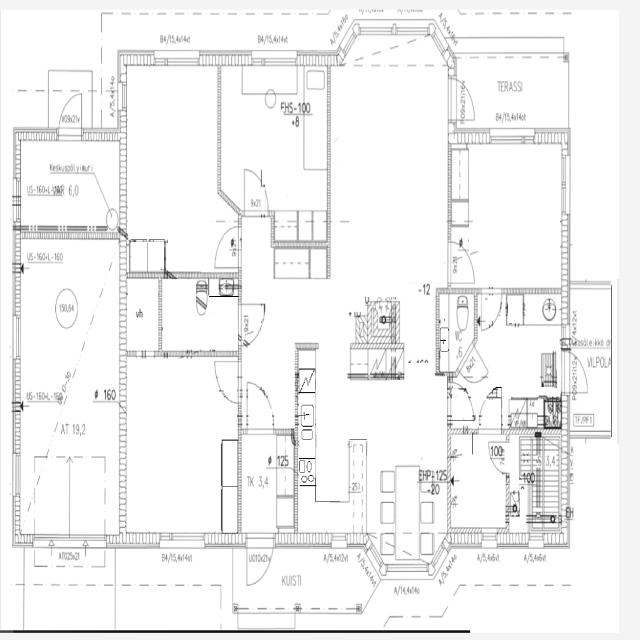door: (567, 288, 611, 429), (244, 377, 276, 438), (243, 528, 274, 590), (239, 164, 272, 216), (212, 354, 242, 407), (447, 242, 479, 290), (212, 222, 242, 272), (238, 299, 268, 348), (448, 380, 477, 430), (477, 385, 504, 434), (453, 75, 479, 125), (57, 91, 84, 139), (477, 287, 505, 333), (568, 352, 590, 397)
window: (158, 528, 208, 552), (487, 127, 538, 150), (558, 150, 572, 223), (154, 51, 202, 72), (336, 16, 361, 56), (249, 52, 298, 72), (367, 547, 384, 587), (10, 310, 22, 364), (10, 450, 22, 500), (480, 528, 500, 550), (10, 182, 20, 224), (329, 532, 349, 552), (118, 77, 126, 117), (12, 174, 22, 204)
zone: (122, 354, 237, 542), (460, 140, 568, 290), (218, 68, 311, 202), (483, 298, 565, 428), (296, 352, 356, 529), (13, 138, 120, 228), (568, 281, 612, 434), (506, 428, 567, 535), (160, 282, 241, 361), (448, 434, 509, 536), (238, 430, 296, 537), (68, 449, 110, 542), (124, 270, 162, 358), (438, 290, 474, 377), (33, 456, 70, 540), (297, 350, 321, 470), (303, 68, 330, 174)
